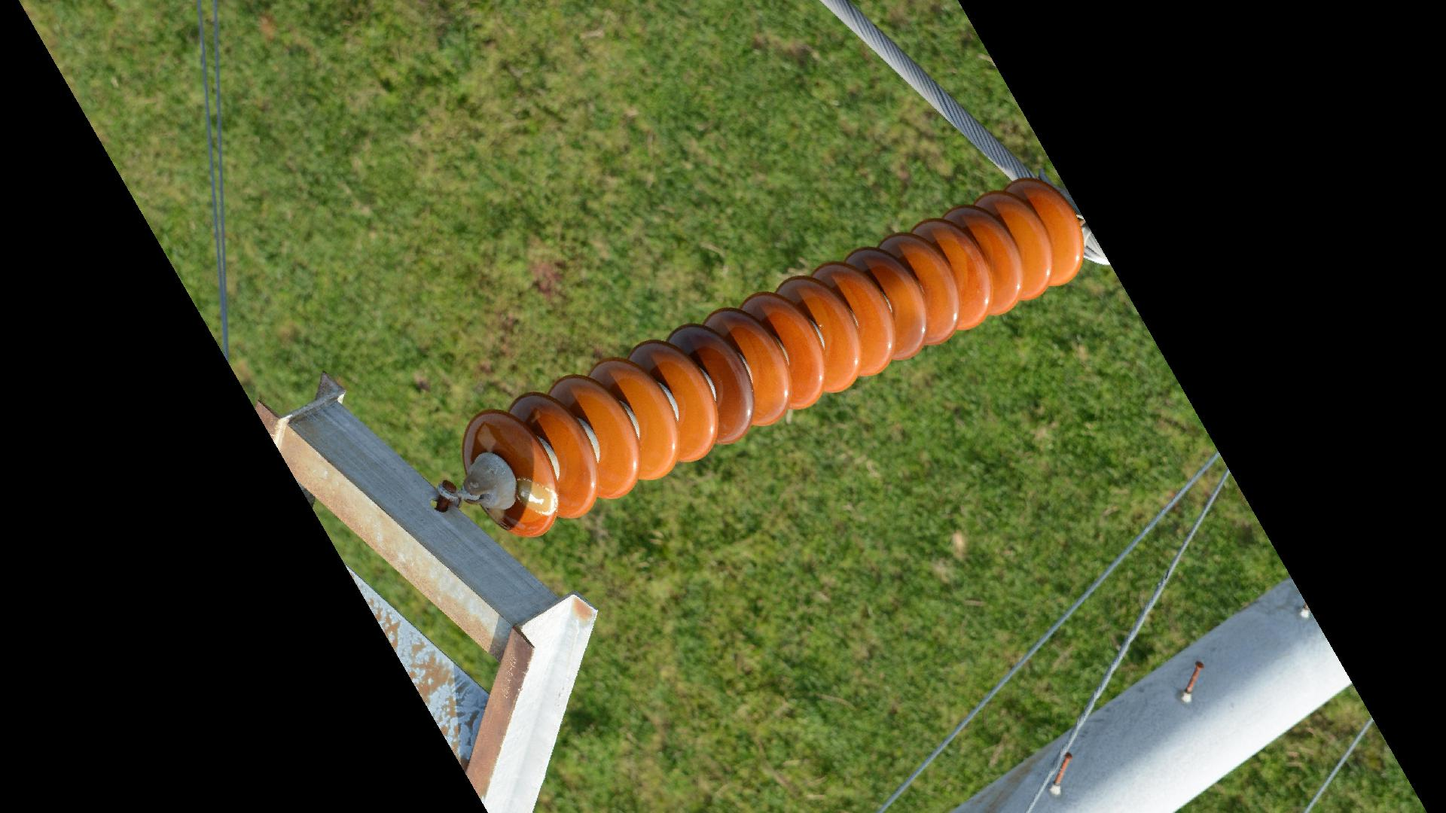insulator: (458, 172, 1089, 541)
insulator_flashover: (514, 475, 561, 519)
